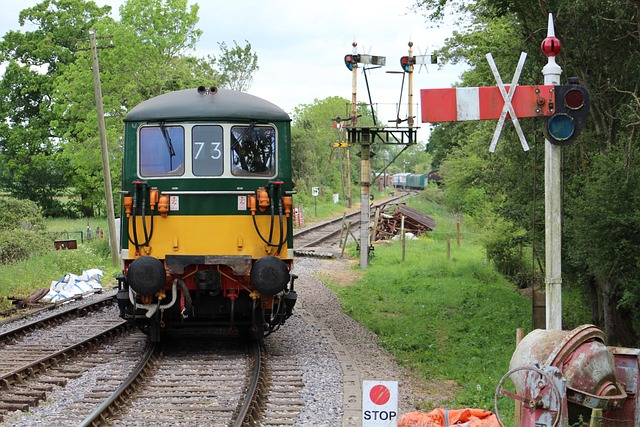train1: (112, 82, 302, 345)
